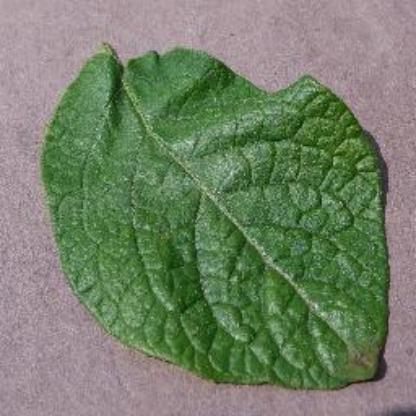Healthy-plant: (29, 26, 389, 388)
